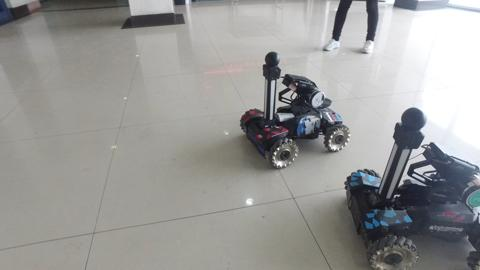chariot: (339, 102, 480, 268), (233, 48, 353, 169)
